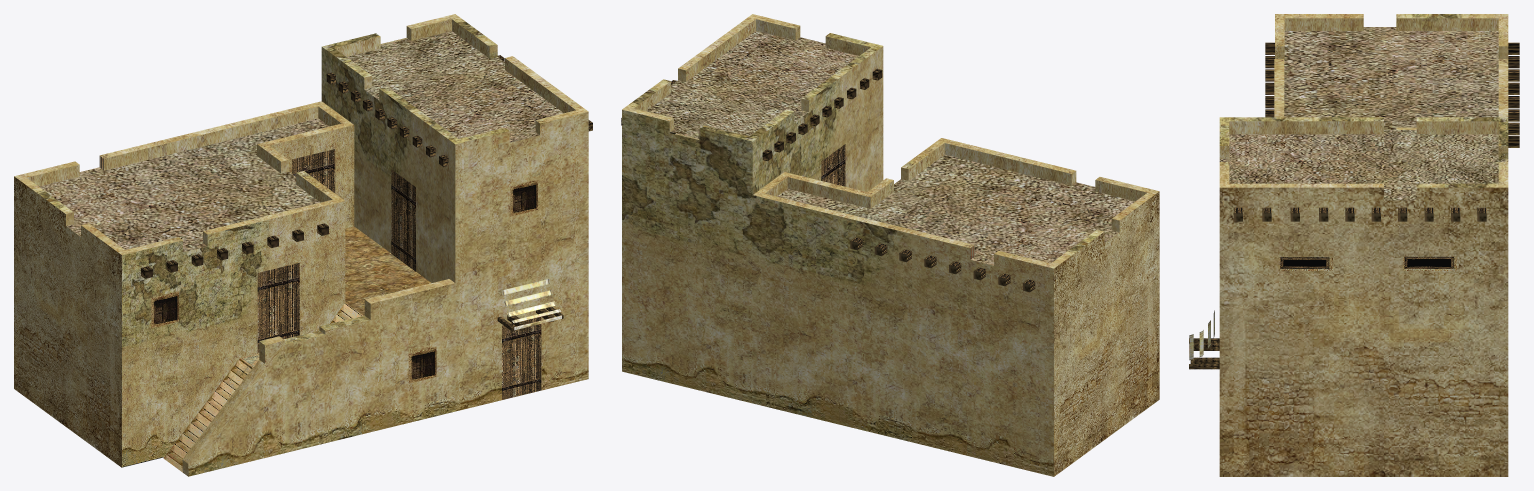
File: pers_alt_build_03.dae
The picture shows the model from 3 angles, left to right: view 1: azimuth 30°, elevation 25°; view 2: azimuth 150°, elevation 25°; view 3: azimuth 270°, elevation 25°; orthographic projection. The views are drawn at different scales.
Parts seen in each view (by area): view 1: houseThree; view 2: houseThree; view 3: houseThree.
Boxes of the visible parts, left/top/right/bottom form: houseThree: left=14, top=14, right=592, bottom=476; houseThree: left=621, top=14, right=1159, bottom=476; houseThree: left=1189, top=14, right=1519, bottom=476.
Size of the model in its own units: 23.74 by 13.94 by 13.44.
